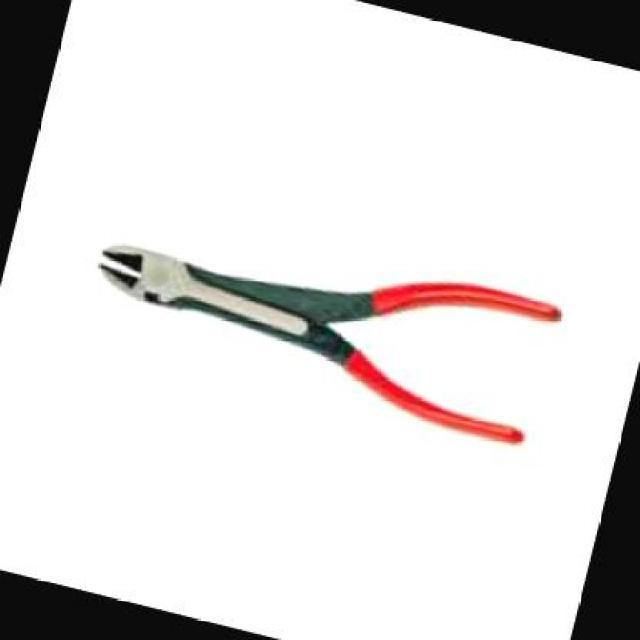pliers: (38, 136, 590, 495)
